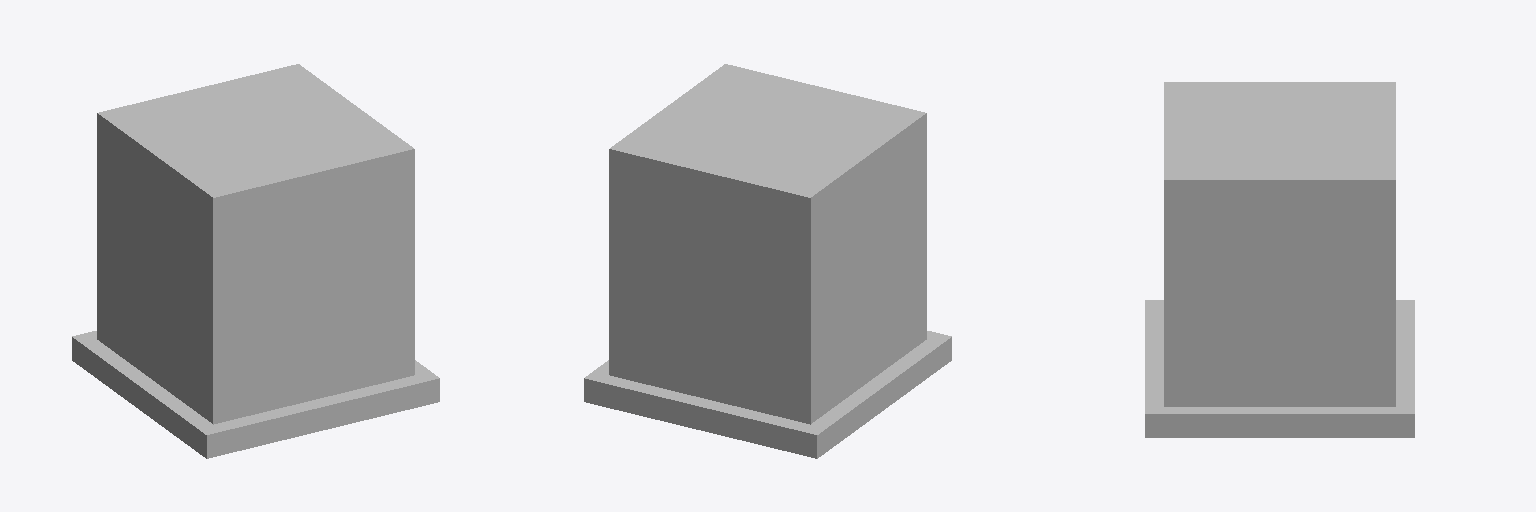
Rendered from Pedestal02.obj.
The picture shows the model from 3 angles: view 1: azimuth 30°, elevation 25°; view 2: azimuth 150°, elevation 25°; view 3: azimuth 270°, elevation 25°; orthographic projection.
Visible parts, largest first — view 1: pCube6; view 2: pCube6; view 3: pCube6.
Boxes of the visible parts, <box> form: pCube6: <box>72,64,439,458</box>; pCube6: <box>584,64,951,458</box>; pCube6: <box>1145,82,1414,437</box>.
Size of the model in its own units: 3.4 by 3.48 by 3.4.